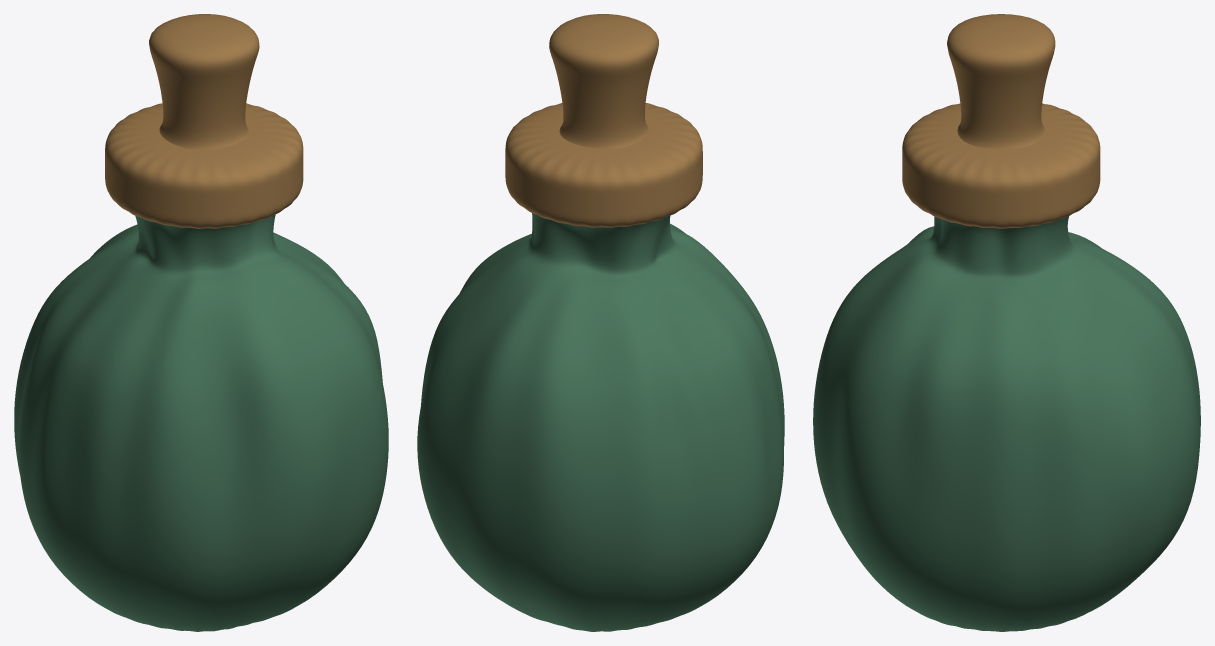
File: iksir1.fbx
The picture shows the model from 3 angles, left to right: view 1: azimuth 30°, elevation 25°; view 2: azimuth 150°, elevation 25°; view 3: azimuth 270°, elevation 25°; orthographic projection.
Parts seen in each view (by area): view 1: iksir1; view 2: iksir1; view 3: iksir1.
Part boxes in pixels (<box>): iksir1: <box>14,14,388,631</box>; iksir1: <box>417,14,784,631</box>; iksir1: <box>813,14,1200,631</box>.
Bounding box in the file's own units: 255 × 449 × 272.
